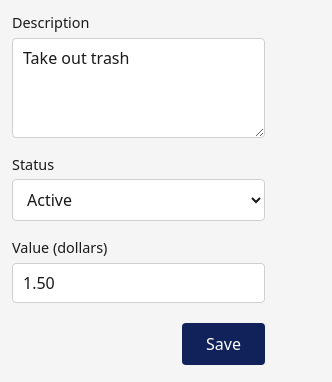
Test: ChoreDetailForm › disables the save button when the description is blank
The width and height of the screenshot is (332, 382).
Clear the text box labelled "Description" at (138, 88), box 12,38 -> 265,138
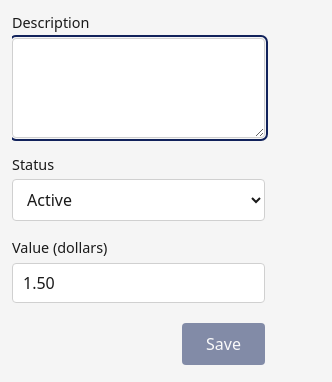
Check: the button "Save" is disabled, box 182,323 -> 265,365
